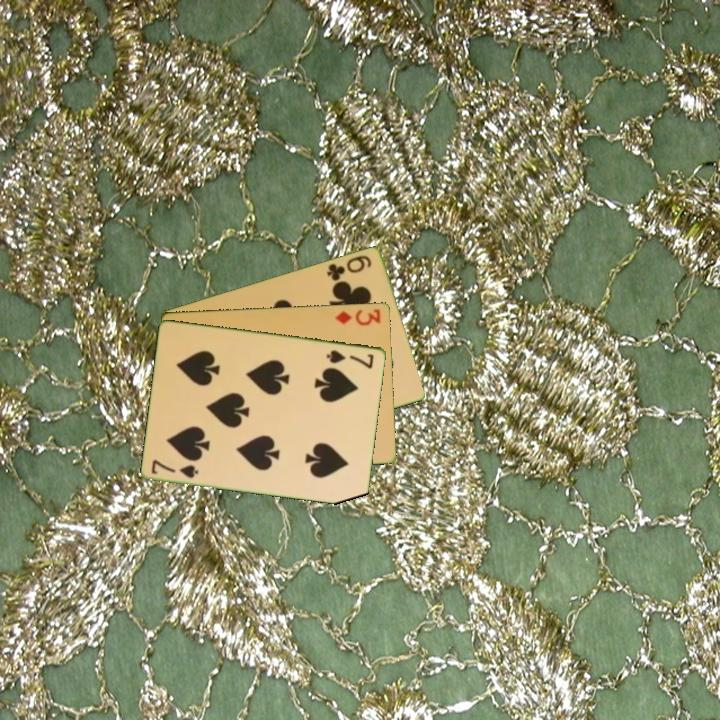3d: (332, 305, 384, 328)
6c: (323, 251, 375, 283)
7s: (323, 346, 377, 371), (148, 456, 202, 480)
